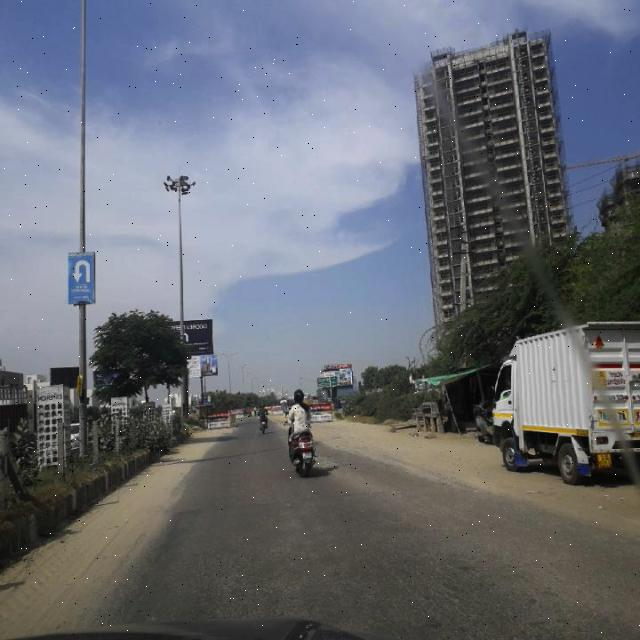D20: (175, 524, 576, 618)
